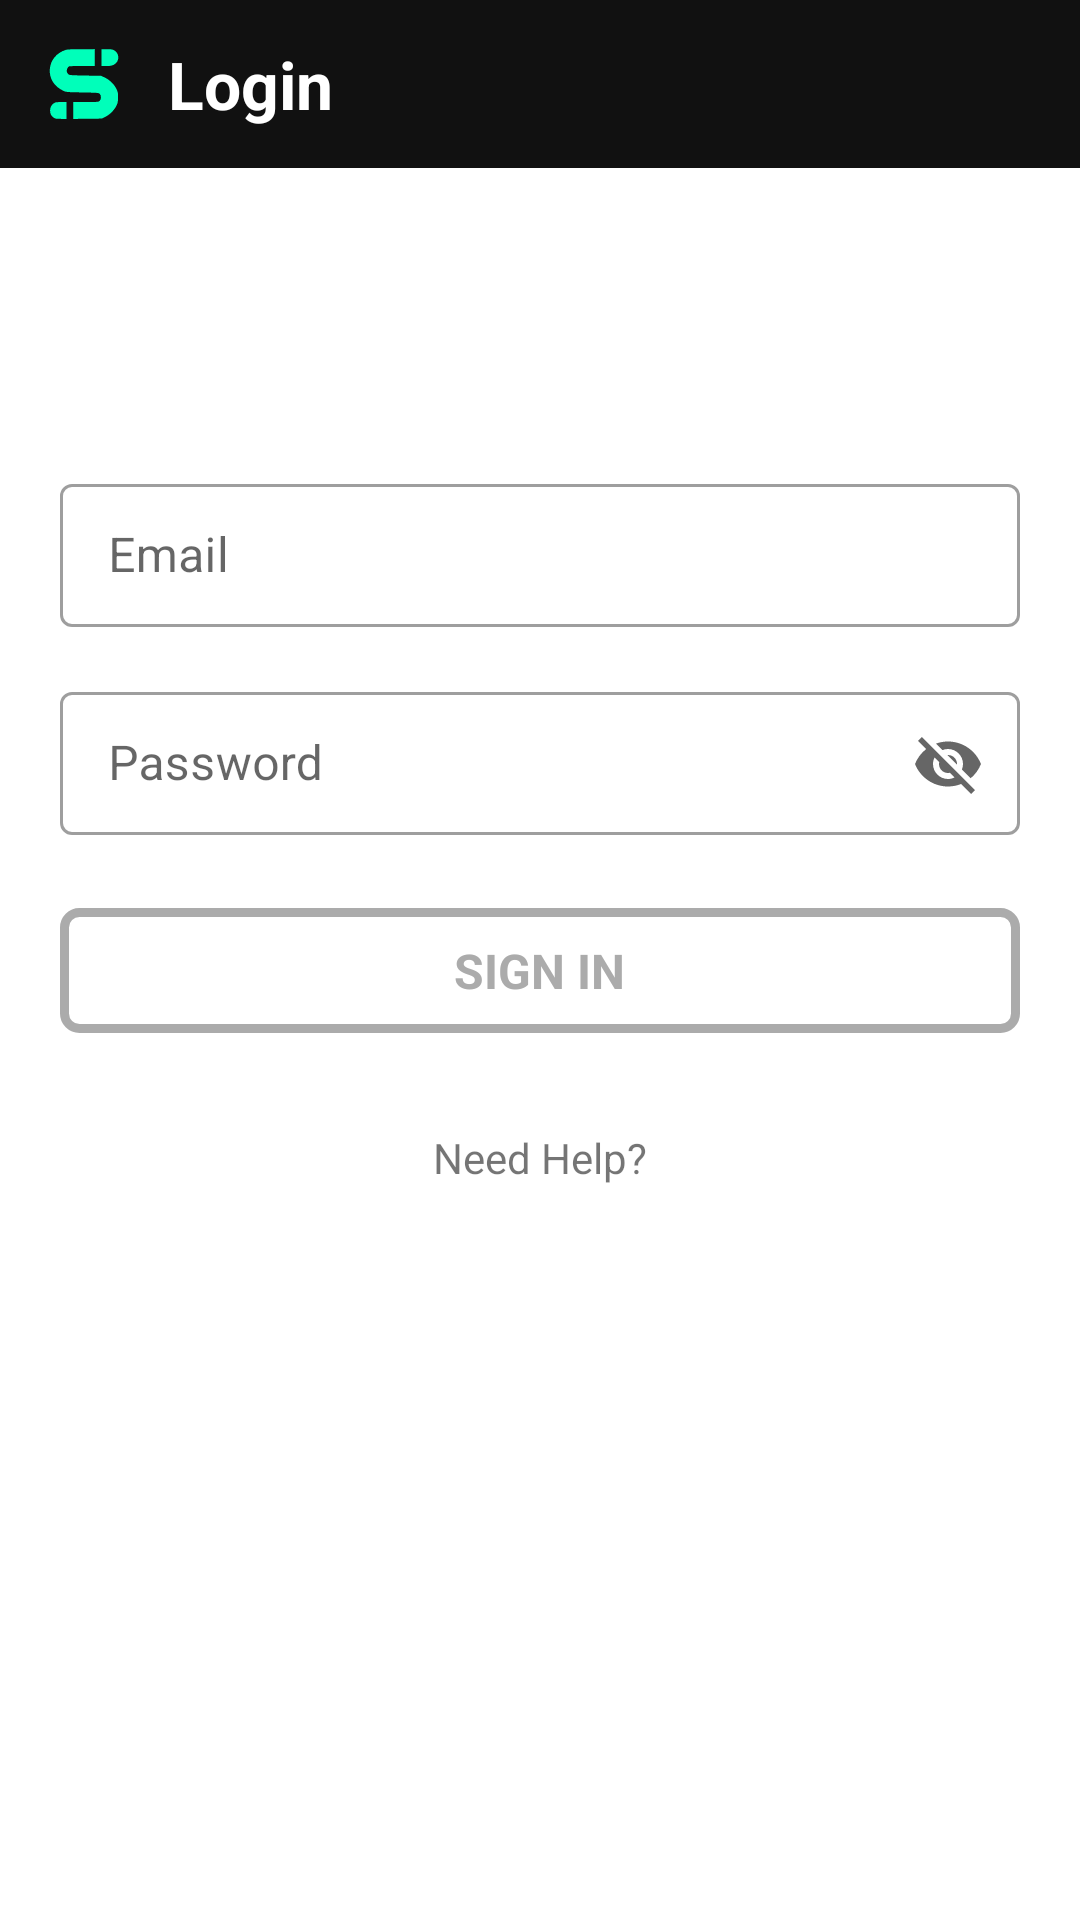

Point at icon controls on the screen. Image size 1080x1920, points as [x,y].
appicon: [84,84]
